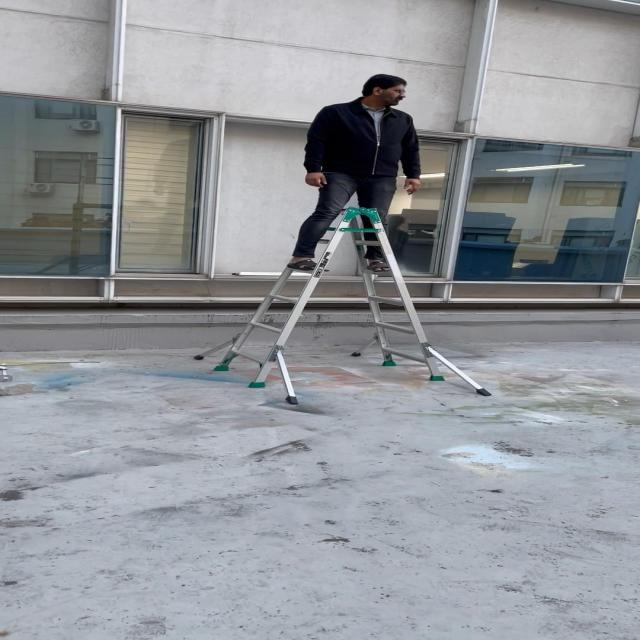boots: (186, 202, 508, 410)
vest: (292, 69, 432, 274)
